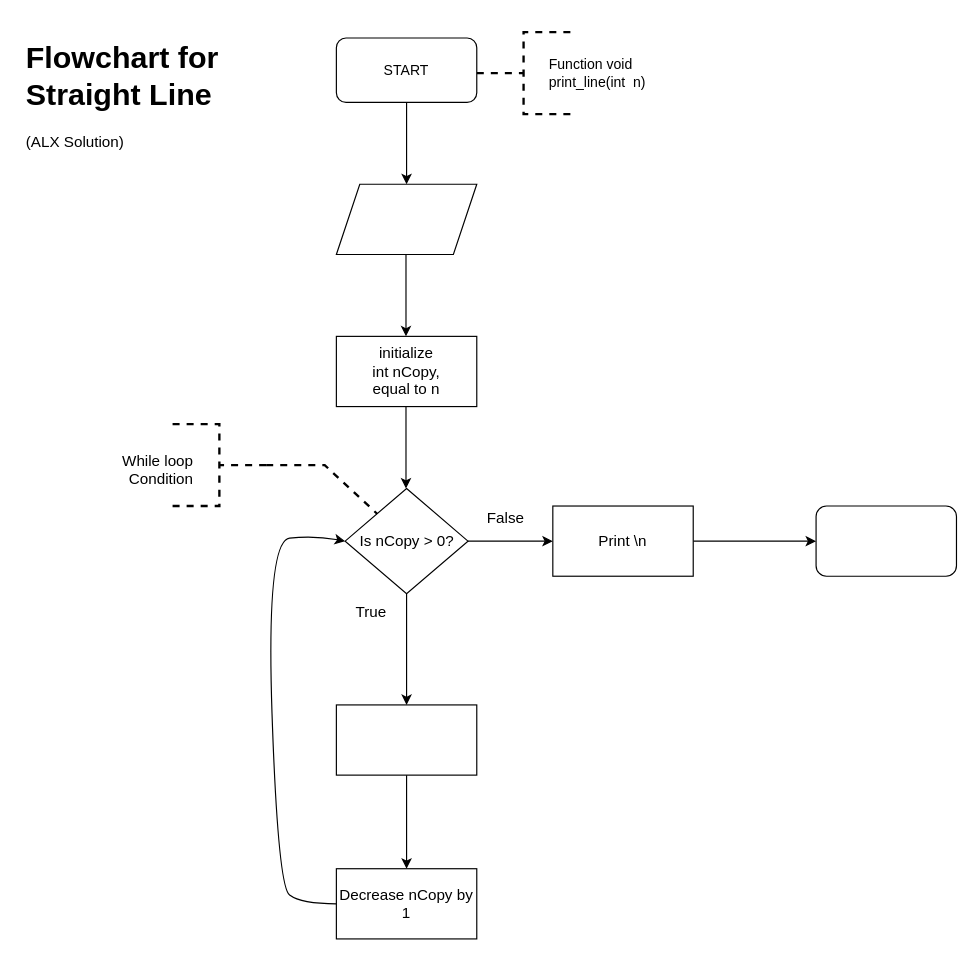
Image size: 977x959. Some labels were removed from this diagram. Each missing label, with the box of its shape:
END: (815, 505, 956, 576)
Input: int n: (335, 183, 477, 254)
print "-": (335, 704, 477, 775)
